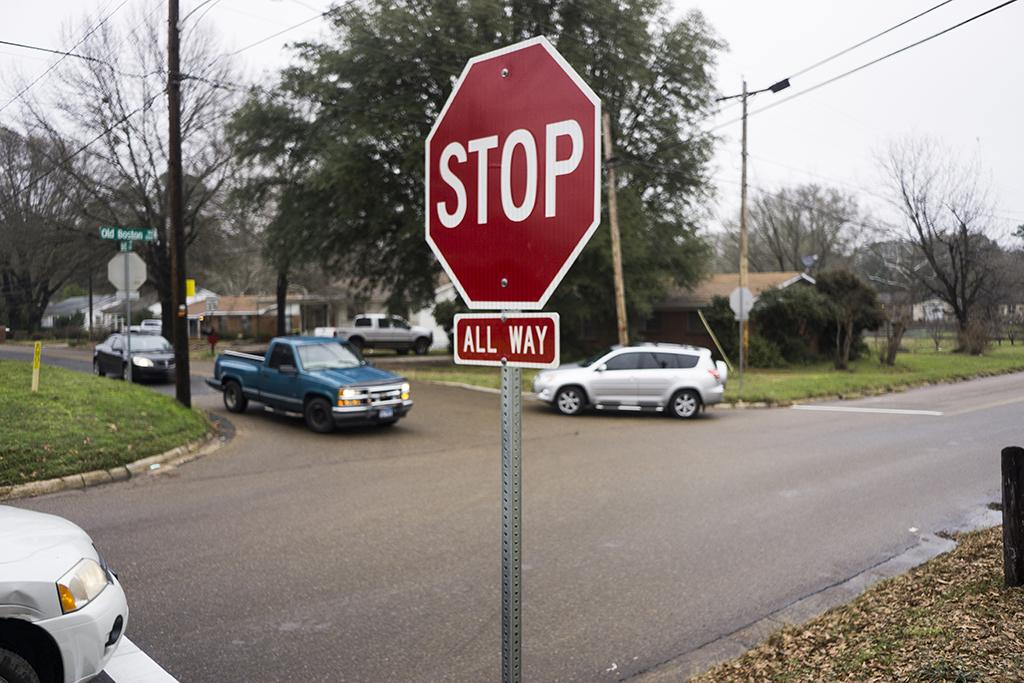Pole: (498, 366, 523, 680), (125, 300, 132, 384), (738, 320, 744, 386)
Sign: (423, 35, 600, 313), (106, 252, 148, 292), (729, 287, 755, 313)
